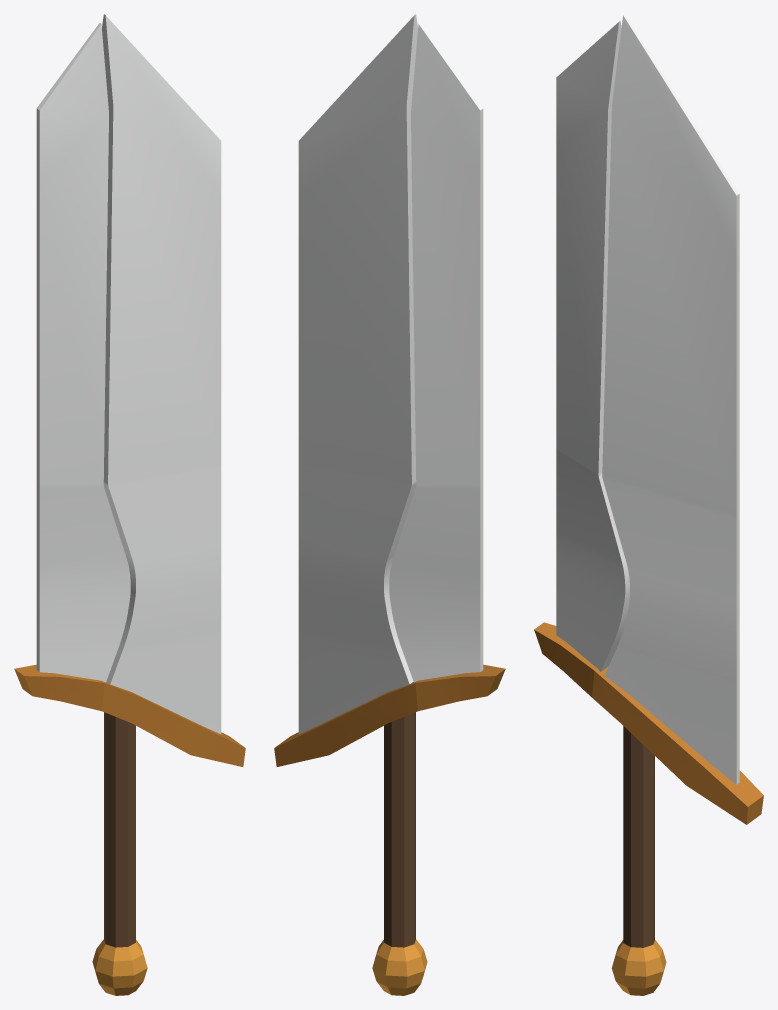
The model's file is one_handed_sword_9.fbx.
3 views of the same model, side by side, from view 1: azimuth 30°, elevation 25°; view 2: azimuth 150°, elevation 25°; view 3: azimuth 330°, elevation 25° (orthographic).
Visible parts, largest first — view 1: one_handed_sword_9; view 2: one_handed_sword_9; view 3: one_handed_sword_9.
Part boxes in pixels (bbox=[...]): one_handed_sword_9: bbox=[14, 14, 245, 995]; one_handed_sword_9: bbox=[274, 14, 505, 995]; one_handed_sword_9: bbox=[534, 14, 763, 995].
Size of the model in its own units: 0.3086 by 1.32 by 0.0723.
Materials: 1 (1 with a texture image).
